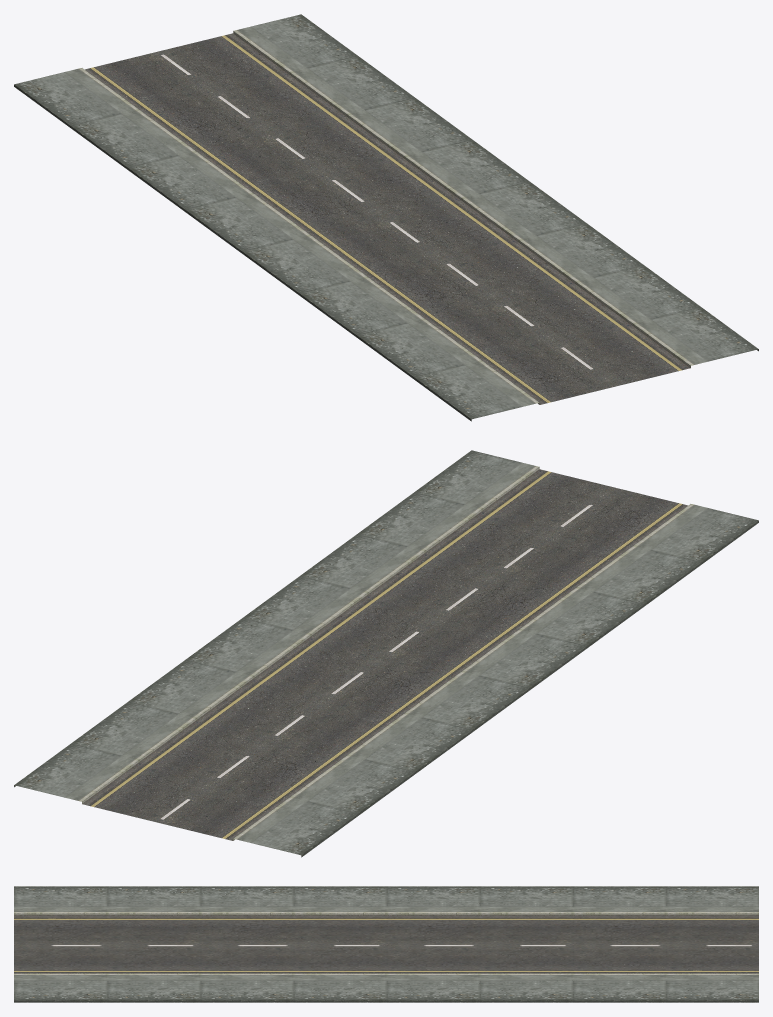
Rendered from Rd_Straight.fbx.
3 views of the same model, one above another, from view 1: azimuth 30°, elevation 25°; view 2: azimuth 150°, elevation 25°; view 3: azimuth 270°, elevation 25° (orthographic). The views are drawn at different scales.
Visible parts, largest first — view 1: U3DMesh; view 2: U3DMesh; view 3: U3DMesh.
Boxes of the visible parts, left/top/right/bottom form: U3DMesh: left=14, top=14, right=758, bottom=421; U3DMesh: left=14, top=450, right=758, bottom=857; U3DMesh: left=14, top=886, right=758, bottom=1002.
Size of the model in its own units: 11.6 by 0.09 by 32.
